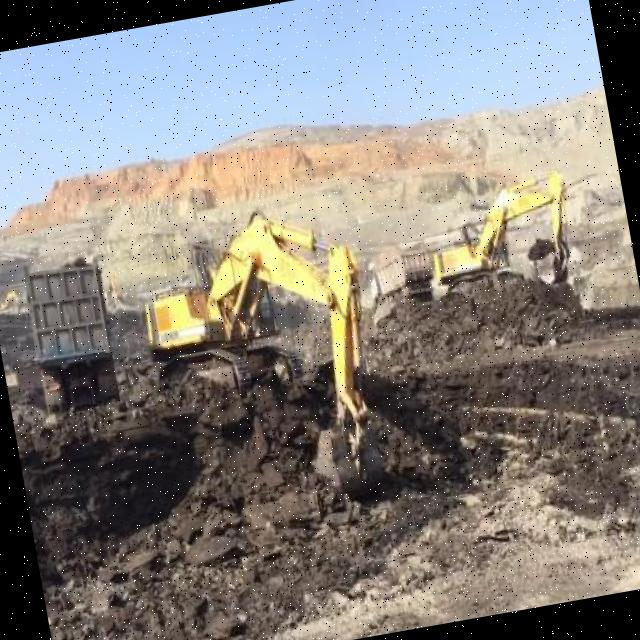Dump Truck: (16, 252, 126, 424), (362, 246, 430, 306)
Excavator: (126, 192, 395, 526), (415, 162, 599, 348)
